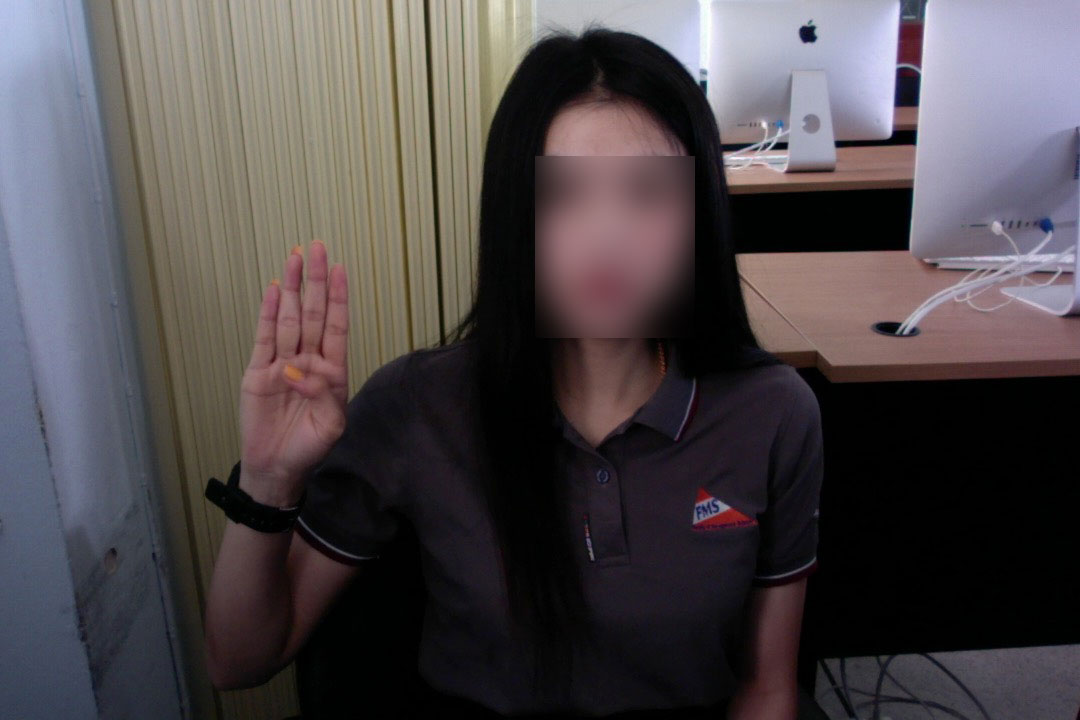bor: (231, 234, 355, 487)
